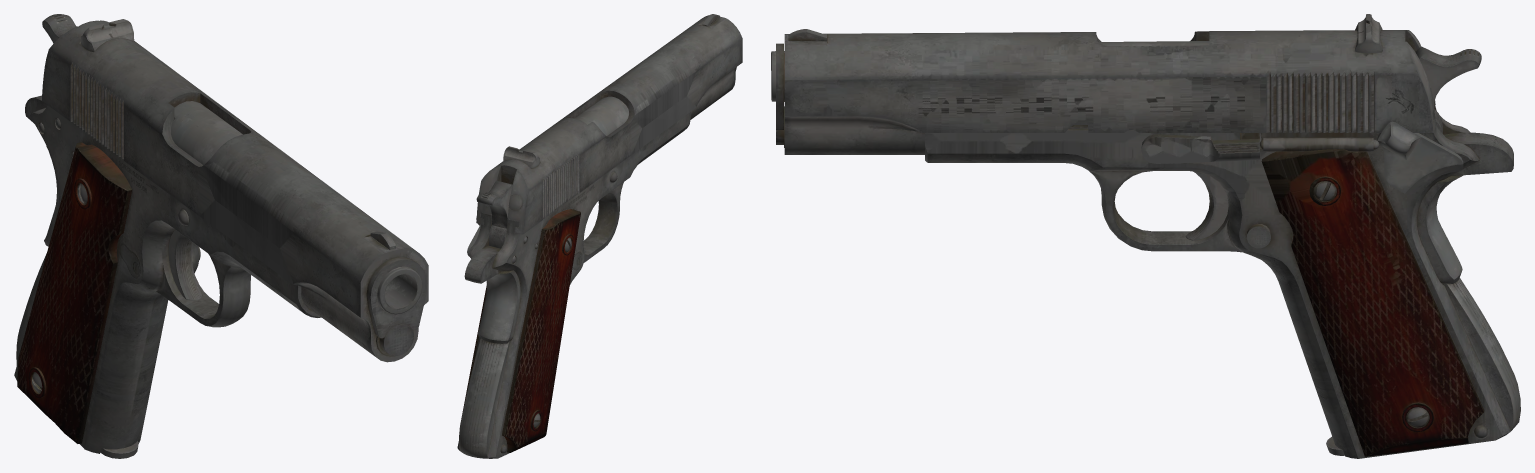
The picture shows the model from 3 angles, left to right: view 1: azimuth 30°, elevation 25°; view 2: azimuth 150°, elevation 25°; view 3: azimuth 270°, elevation 25°; orthographic projection. The views are drawn at different scales.
Visible parts, largest first — view 1: Body, ChargingHandleGeometry; view 2: Body, ChargingHandleGeometry; view 3: Body, ChargingHandleGeometry.
Boxes of the visible parts, left/top/right/bottom form: Body: left=14, top=14, right=422, bottom=453; ChargingHandleGeometry: left=41, top=19, right=428, bottom=362; Body: left=457, top=96, right=690, bottom=458; ChargingHandleGeometry: left=476, top=14, right=742, bottom=234; Body: left=771, top=41, right=1520, bottom=458; ChargingHandleGeometry: left=776, top=14, right=1435, bottom=163.
Bounding box in the file's own units: 0.0336 × 0.1357 × 0.216.
2 materials, 2 textured.
